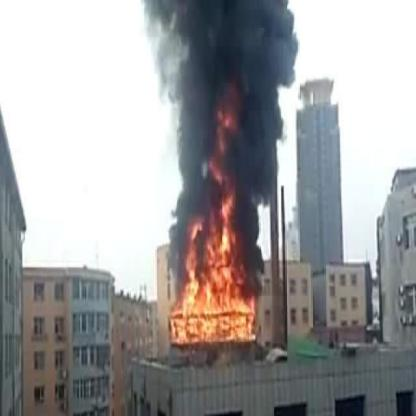fire: (160, 201, 266, 355)
smoke: (145, 1, 284, 239)
